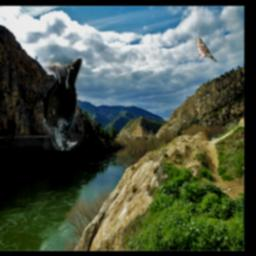Crow: (44, 58, 82, 151)
Sparrow: (196, 37, 219, 62)
